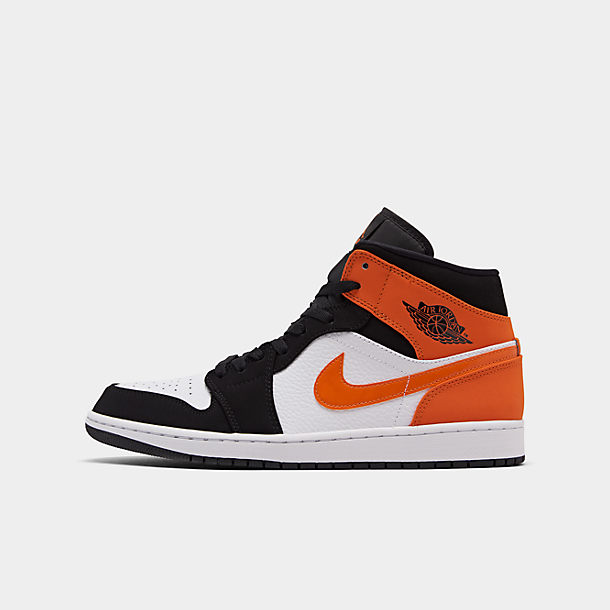shoe: (73, 202, 533, 476)
